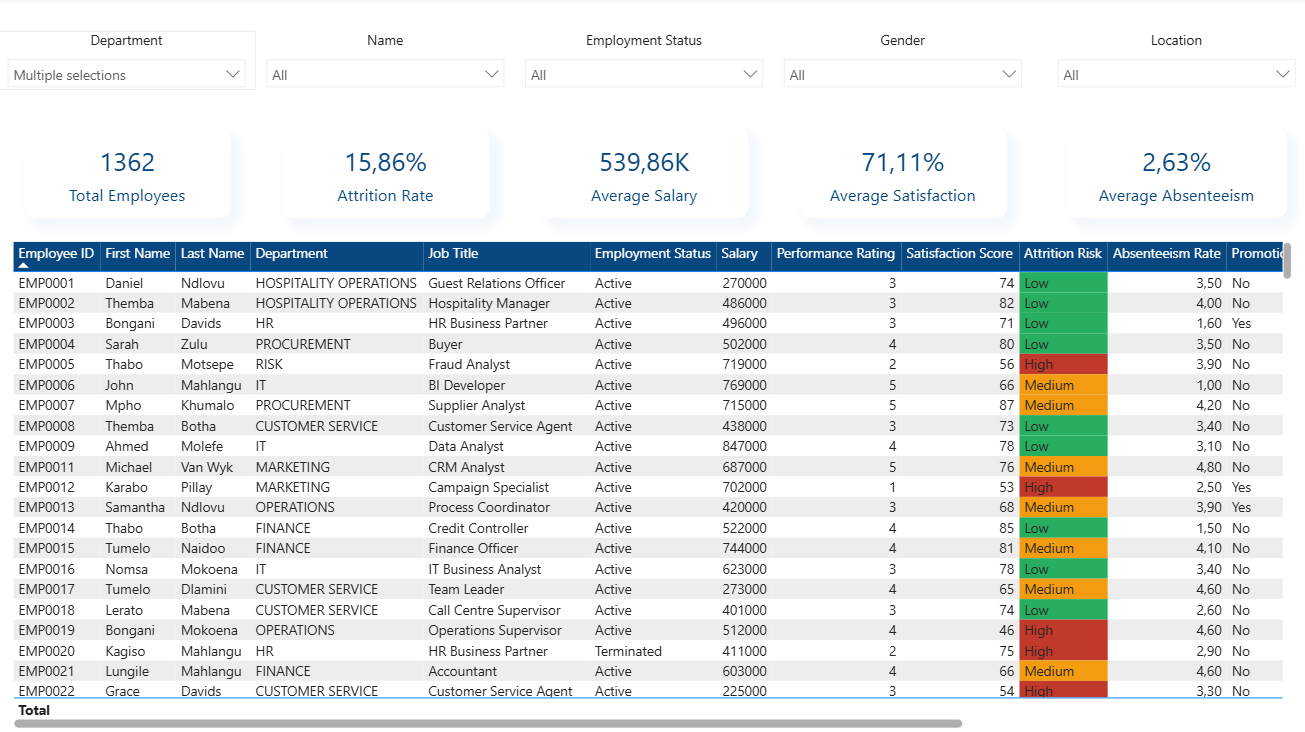

The page's visual inventory and layout, read from the dashboard file:
{"tool":"powerbi","page":{"name":"Employee Detail & Retention Analysis","canvas":[1280,720],"ordinal":2},"visuals":[{"type":"card","fields":{"Values":["Measures (2).Attrition Rate"]},"box":[278.8,128.4,203,88],"z":0},{"type":"card","fields":{"Values":["Measures (2).Total Employees"]},"box":[26.9,128.4,201.8,88],"z":1},{"type":"card","fields":{"Values":["Measures (2).Average Salary"]},"box":[531.9,128.4,203,88],"z":2},{"type":"card","fields":{"Values":["Measures (2).Average Satisfaction"]},"box":[785.1,128.4,203,88],"z":3},{"type":"card","fields":{"Values":["Measures (2).Average Absenteeism"]},"box":[1046.7,128.4,215.2,88],"z":4},{"type":"tableEx","fields":{"Values":["Employee_Data.Employee_ID","Employee_Data.First_Name","Employee_Data.Last_Name","Employee_Data.Department","Employee_Data.Job_Title","Employee_Data.Employment_Status","Employee_Data.Salary","Employee_Data.Performance_Rating","Employee_Data.Satisfaction_Score","Employee_Data.Attrition_Risk","Employee_Data.Absenteeism_Rate","Employee_Data.Promotion_Last_2Yrs"]},"box":[9.8,234.8,1262,485.5],"z":5},{"type":"slicer","title":"Department","fields":{"Values":["Employee_Data.Department"]},"box":[0,33,253.1,57.5],"z":6},{"type":"slicer","title":"Name","fields":{"Values":["Employee_Data.First_Name"]},"box":[253.1,33,253.1,57.5],"z":7},{"type":"slicer","title":"Employment Status","fields":{"Values":["Employee_Data.Employment_Status"]},"box":[506.3,33,253.1,57.5],"z":8},{"type":"slicer","title":"Gender","fields":{"Values":["Employee_Data.Gender"]},"box":[759.4,33,253.1,57.5],"z":9},{"type":"slicer","title":"Location","fields":{"Values":["Employee_Data.Location"]},"box":[1027.2,33,253.1,57.5],"z":10}]}

Visuals, with their boxes in screenshot pixels (x1, y1, x2, y2), scaled from the page's 1280x720 canvas onto the 1305x732 screenshot:
card - Measures (2).Attrition Rate: 284:131:491:220
card - Measures (2).Total Employees: 27:131:233:220
card - Measures (2).Average Salary: 542:131:749:220
card - Measures (2).Average Satisfaction: 800:131:1007:220
card - Measures (2).Average Absenteeism: 1067:131:1287:220
tableEx - Employee_Data.Employee_ID x Employee_Data.First_Name: 10:239:1297:731
"Department" slicer: 0:34:258:92
"Name" slicer: 258:34:516:92
"Employment Status" slicer: 516:34:774:92
"Gender" slicer: 774:34:1032:92
"Location" slicer: 1047:34:1304:92
